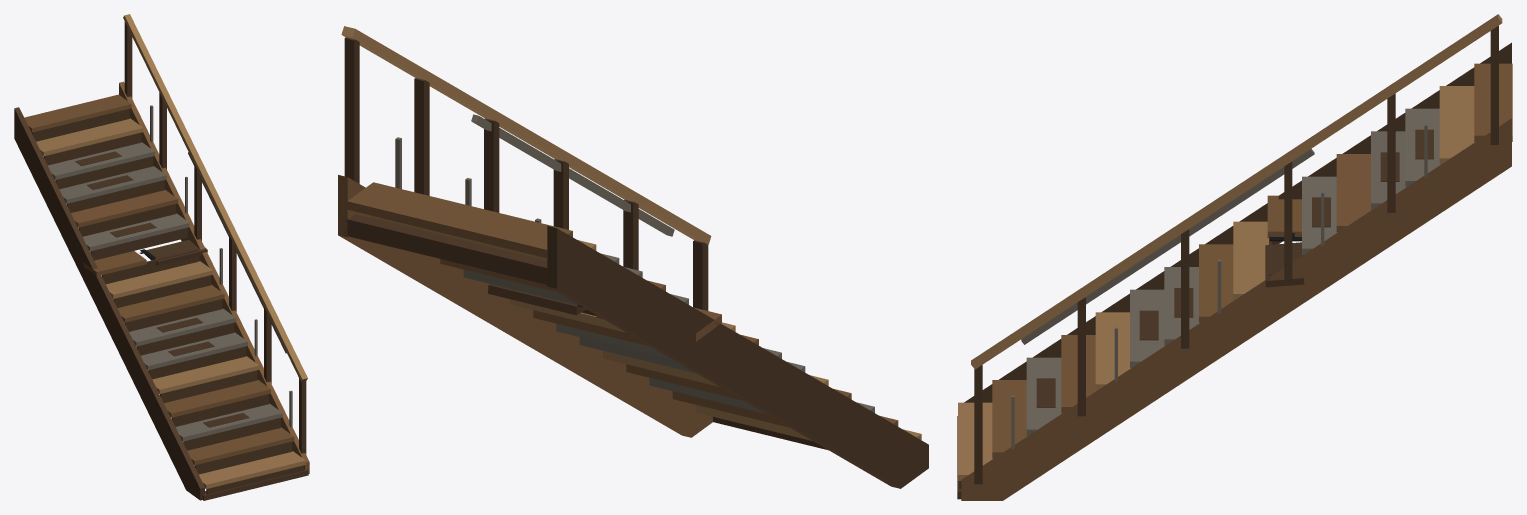
File: bld_stairs_house.fbx
3 renders of one model, left to right at view 1: azimuth 30°, elevation 25°; view 2: azimuth 150°, elevation 25°; view 3: azimuth 270°, elevation 25°, orthographic. The views are drawn at different scales.
Visible parts, largest first — view 1: bld_stairs_house; view 2: bld_stairs_house; view 3: bld_stairs_house.
Part boxes in pixels (x1,y1,x2,y2): bld_stairs_house: (14,14,309,500); bld_stairs_house: (338,26,928,488); bld_stairs_house: (957,14,1512,500).
Size of the model in its own units: 1.38 by 3.88 by 4.04.
